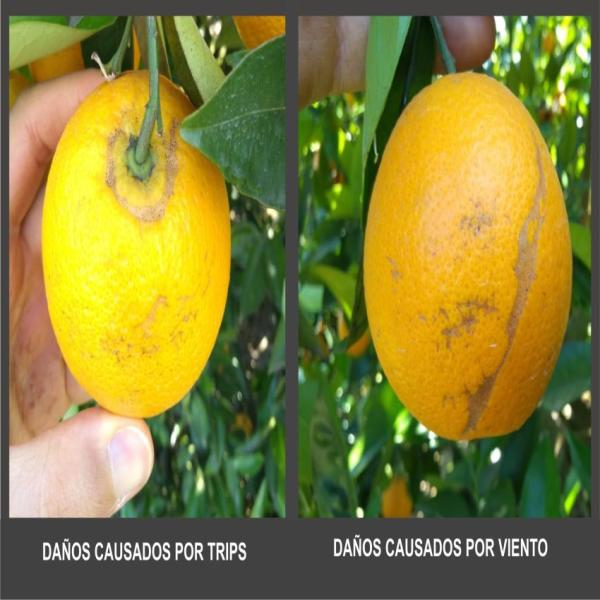Otros defectos: (346, 64, 582, 454)
Trips: (32, 64, 236, 424)
